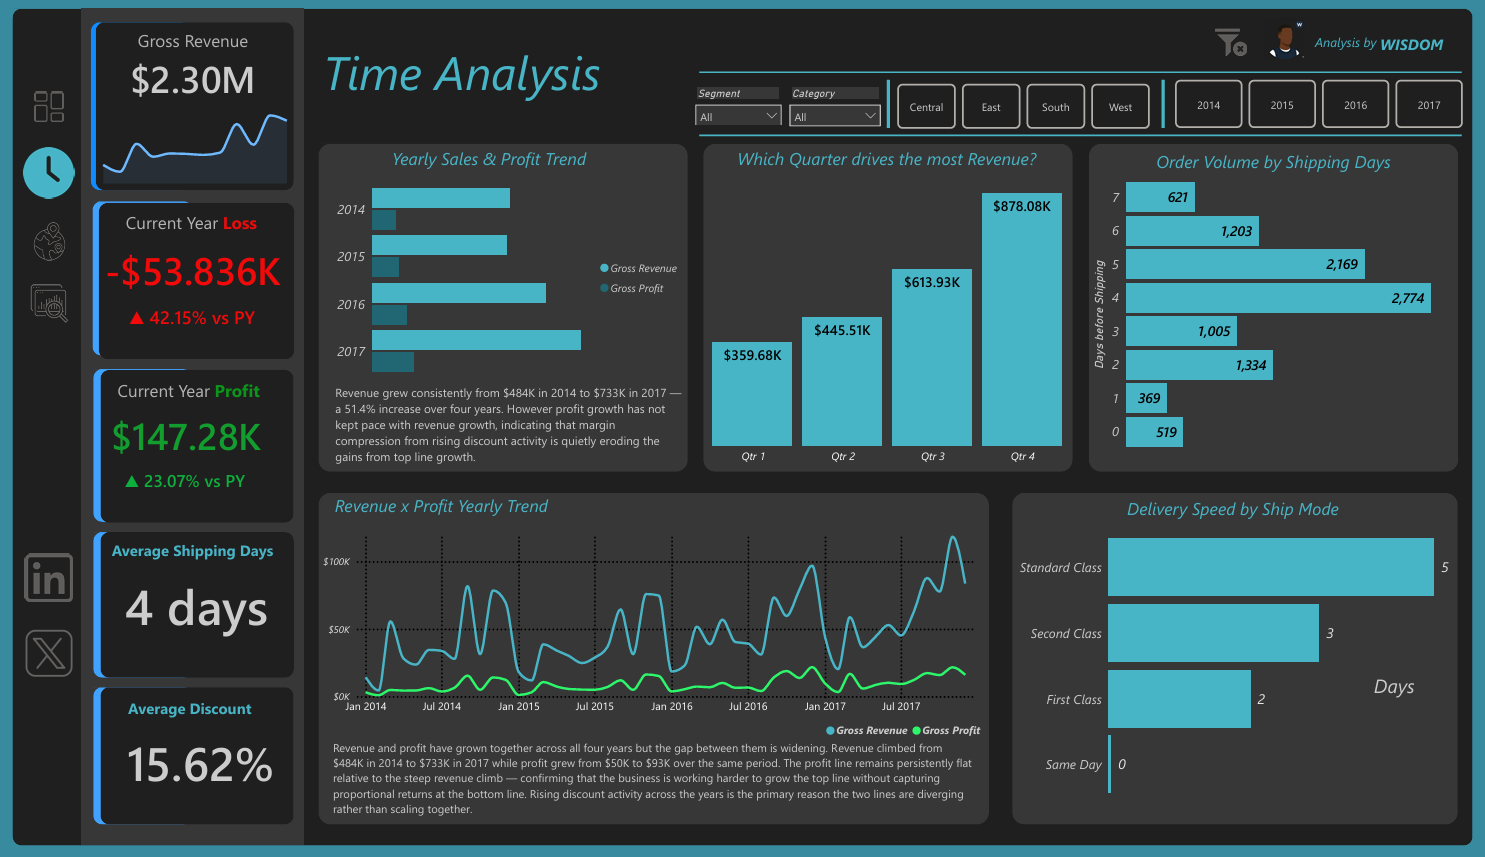

This screenshot's page, from the dashboard's own definition file:
{"tool":"powerbi","page":{"name":"Time Analysis","canvas":[1900,1080],"ordinal":1},"visuals":[{"type":"shape","box":[35.8,16.4,1828.2,1046.8],"z":0},{"type":"group","id":"g1","title":"Group 1","box":[134.3,32.8,253.6,210.3],"z":0,"group":"g5"},{"type":"shape","box":[134.3,32.8,123.9,209.8],"z":0,"group":"g1"},{"type":"textbox","box":[1661.6,41.8,96.3,62.6],"z":0,"group":"g4"},{"type":"shape","box":[135.7,257.3,125.1,192.8],"z":0,"group":"g6"},{"type":"cardVisual","fields":{"Data":["Yoys.Current Year Total Loss"]},"box":[71.3,281.4,381.6,118.4],"z":0,"group":"g7"},{"type":"shape","box":[137.2,466.9,123.8,190.9],"z":0,"group":"g8"},{"type":"cardVisual","fields":{"Data":["Yoys.Current Year Profit"]},"box":[97.7,489.1,310.9,118.4],"z":0,"group":"g9"},{"type":"shape","box":[137.2,671.2,124,181.9],"z":0,"group":"g2"},{"type":"shape","box":[137.2,865.1,123.8,171.5],"z":0,"group":"g3"},{"type":"shape","box":[140.3,32.8,247.8,209.8],"z":1000,"group":"g1"},{"type":"textbox","box":[1739.8,41.8,96.3,62.6],"z":1000,"group":"g4"},{"type":"cardVisual","fields":{"Data":["KPIs.Gross Revenue"]},"box":[126.8,43.2,270,117.8],"z":1000,"group":"g5"},{"type":"slicer","fields":{"Values":["Superstore Sales Data.Category"]},"box":[998.7,109.2,134.2,54.6],"z":1000},{"type":"shape","box":[143.2,259.4,244.5,195.4],"z":1000,"group":"g6"},{"type":"textbox","box":[168.6,262.5,183.5,53.7],"z":1000,"group":"g7"},{"type":"shape","box":[146.1,468.4,241.6,190.9],"z":1000,"group":"g8"},{"type":"textbox","box":[155.8,474.2,200.7,51],"z":1000,"group":"g9"},{"type":"shape","box":[145.8,671.3,242,181.9],"z":1000,"group":"g2"},{"type":"shape","box":[146.1,865.1,241.6,171.5],"z":1000,"group":"g3"},{"type":"shape","box":[122.3,16.4,278.9,1046.8],"z":2000},{"type":"textbox","box":[170.1,35.8,183.5,53.7],"z":2000,"group":"g5"},{"type":"slicer","fields":{"Values":["Superstore Sales Data.Segment"]},"box":[880.7,109.2,128.3,51.6],"z":3000},{"type":"lineChart","fields":{"Y":["Dax.Gross Revenue"],"Category":["Superstore Sales Data.Order Date.Variation.Date Hierarchy.Month"]},"box":[135.7,123.8,256.5,116.3],"z":3000,"group":"g5"},{"type":"cardVisual","fields":{"Data":["Kpi Labels.Profit Display"]},"box":[143.8,569.7,215.5,69.1],"z":3000,"group":"g9"},{"type":"cardVisual","fields":{"Data":["Kpi Labels.Loss Display"]},"box":[135,366.9,251.7,67.4],"z":4000,"group":"g7"},{"type":"shape","box":[419,621.8,839.6,414.6],"z":4000},{"type":"shape","box":[1288.4,621.8,557.7,414.6],"z":5000},{"type":"shape","box":[419.1,185,462.4,410.2],"z":6000},{"type":"shape","box":[900.9,185,462.4,410.2],"z":7000},{"type":"shape","box":[1384.2,185,462.4,410.2],"z":8000},{"type":"clusteredColumnChart","fields":{"Y":["Dax.Gross Revenue"],"Category":["Superstore Sales Data.Order Date.Variation.Date Hierarchy.Quarter"]},"box":[863,203.6,538.5,390.9],"z":9000},{"type":"advancedSlicerVisual","fields":{"Values":["Superstore Sales Data.Ship Date.Variation.Date Hierarchy.Year"]},"box":[1487.1,100.3,371.8,70.8],"z":10000},{"type":"group","id":"g2","title":"Group 2","box":[137.2,671.2,250.6,182],"z":11000},{"type":"group","id":"g3","title":"Group 3","box":[137.2,865.1,250.6,171.5],"z":12000},{"type":"cardVisual","fields":{"Data":["Dax.Average Discount"]},"box":[134.2,885.2,274.4,144.6],"z":13000},{"type":"textbox","box":[146.4,676,230.3,54.3],"z":14000},{"type":"cardVisual","fields":{"Data":["KPIs.Average Shipping Days"]},"box":[123.4,690.8,287.8,139.8],"z":15000},{"type":"textbox","box":[165.6,872.6,183.5,53.7],"z":16000},{"type":"textbox","box":[419,50.2,463.2,91.5],"z":17000},{"type":"image","box":[43.3,698,77.6,61.2],"z":18000},{"type":"image","box":[46.2,790.5,71.6,62.6],"z":19000},{"type":"group","id":"g4","title":"Group 1","box":[1661.6,41.8,174.5,62.6],"z":20000},{"type":"image","box":[1585.5,28.3,86.5,50.7],"z":21000},{"type":"group","id":"g5","title":"Group 4","box":[126.8,32.8,270,210.3],"z":22000},{"type":"group","id":"g6","title":"Group 6","box":[135.7,257.3,252.1,196.9],"z":23000},{"type":"group","id":"g7","title":"Group 5","box":[71.3,262.5,381.6,171.9],"z":24000},{"type":"group","id":"g8","title":"Group 8","box":[137.2,466.9,250.6,192.4],"z":25000},{"type":"group","id":"g9","title":"Group 7","box":[97.7,474.2,310.9,164.6],"z":26000},{"type":"advancedSlicerVisual","fields":{"Values":["Superstore Sales Data.Region"]},"box":[1138.9,104.7,327.5,66.4],"z":27000},{"type":"image","box":[1540.2,38.4,45.7,39.8],"z":28000},{"type":"shape","box":[896.4,82,954.6,26.8],"z":29000},{"type":"group","id":"g10","title":"Group 9","box":[1096.3,32.8,277.4,53.7],"z":30000},{"type":"shape","box":[1462,104.7,29.5,60.5],"z":31000},{"type":"shape","box":[896.4,161.1,954.6,26.8],"z":32000},{"type":"textbox","box":[435.2,480.9,445.5,113.6],"z":33000},{"type":"textbox","box":[432.2,926.5,811.4,110.6],"z":34000},{"type":"textbox","box":[1457.5,187.4,314.2,48.7],"z":35000},{"type":"textbox","box":[930.9,184.4,399.8,48.7],"z":36000},{"type":"image","box":[62.6,116.3,37.3,46.2],"z":37000},{"type":"image","box":[49.2,179,64.1,83.5],"z":38000},{"type":"image","box":[58.2,275.9,47.7,62.6],"z":39000},{"type":"image","box":[58.2,353.5,47.7,64.1],"z":40000},{"type":"textbox","box":[1384.1,621.7,360.7,49],"z":41000},{"type":"lineChart","fields":{"Y":["KPIs.Gross Revenue","KPIs.Gross Profit"],"Category":["Superstore Sales Data.Order Date.Variation.Date Hierarchy.Year","Superstore Sales Data.Order Date.Variation.Date Hierarchy.Month"]},"box":[419.4,659.6,838.9,278],"z":42000},{"type":"textbox","box":[432.2,618.1,281.8,48.7],"z":43000},{"type":"clusteredBarChart","fields":{"Category":["Superstore Sales Data.Order Date.Variation.Date Hierarchy.Year"],"Y":["KPIs.Gross Revenue","KPIs.Gross Profit"]},"box":[433.7,203.6,448.5,296.5],"z":44000},{"type":"textbox","box":[463.2,184.4,339.3,48.7],"z":45000},{"type":"clusteredBarChart","fields":{"Category":["Superstore Sales Data.Ship Mode"],"Y":["KPIs.Average Shipping Days Value"]},"box":[1283.5,632.9,559.1,404.2],"z":47000},{"type":"clusteredBarChart","fields":{"Category":["Superstore Sales Data.Days before Shipping"],"Y":["KPIs.Total Orders"]},"box":[1383.8,203.6,479.5,382.1],"z":48000},{"type":"shape","box":[1125.6,104.7,13.3,60.5],"z":49000},{"type":"textbox","box":[1696.5,840.9,138.7,62],"z":50001}]}

Visuals, with their boxes in screenshot pixels (x1, y1, x2, y2), scaled from the page's 1900x1080 canvas onto the 1485x857 screenshot:
shape: [28,13,1457,844]
"Group 1" group: [105,26,303,193]
shape: [105,26,202,193]
textbox: [1299,33,1374,83]
shape: [106,204,204,357]
cardVisual - Yoys.Current Year Total Loss: [56,223,354,317]
shape: [107,370,204,522]
cardVisual - Yoys.Current Year Profit: [76,388,319,482]
shape: [107,533,204,677]
shape: [107,686,204,823]
shape: [110,26,303,193]
textbox: [1360,33,1435,83]
cardVisual - KPIs.Gross Revenue: [99,34,310,128]
slicer - Superstore Sales Data.Category: [781,87,885,130]
shape: [112,206,303,361]
textbox: [132,208,275,251]
shape: [114,372,303,523]
textbox: [122,376,279,417]
shape: [114,533,303,677]
shape: [114,686,303,823]
shape: [96,13,314,844]
textbox: [133,28,276,71]
slicer - Superstore Sales Data.Segment: [688,87,789,128]
lineChart - Dax.Gross Revenue x Superstore Sales Data.Order Date.Variation.Date Hierarchy.Month: [106,98,307,191]
cardVisual - Kpi Labels.Profit Display: [112,452,281,507]
cardVisual - Kpi Labels.Loss Display: [106,291,302,345]
shape: [327,493,984,822]
shape: [1007,493,1443,822]
shape: [328,147,689,472]
shape: [704,147,1066,472]
shape: [1082,147,1443,472]
clusteredColumnChart - Dax.Gross Revenue x Superstore Sales Data.Order Date.Variation.Date Hierarchy.Quarter: [675,162,1095,472]
advancedSlicerVisual - Superstore Sales Data.Ship Date.Variation.Date Hierarchy.Year: [1162,80,1453,136]
"Group 2" group: [107,533,303,677]
"Group 3" group: [107,686,303,823]
cardVisual - Dax.Average Discount: [105,702,319,817]
textbox: [114,536,294,580]
cardVisual - KPIs.Average Shipping Days: [96,548,321,659]
textbox: [129,692,273,735]
textbox: [327,40,690,112]
image: [34,554,94,602]
image: [36,627,92,677]
"Group 1" group: [1299,33,1435,83]
image: [1239,22,1307,63]
"Group 4" group: [99,26,310,193]
"Group 6" group: [106,204,303,360]
"Group 5" group: [56,208,354,345]
"Group 8" group: [107,370,303,523]
"Group 7" group: [76,376,319,507]
advancedSlicerVisual - Superstore Sales Data.Region: [890,83,1146,136]
image: [1204,30,1240,62]
shape: [701,65,1447,86]
"Group 9" group: [857,26,1074,69]
shape: [1143,83,1166,131]
shape: [701,128,1447,149]
textbox: [340,382,688,472]
textbox: [338,735,972,823]
textbox: [1139,149,1385,187]
textbox: [728,146,1040,185]
image: [49,92,78,129]
image: [38,142,89,208]
image: [45,219,83,269]
image: [45,281,83,331]
textbox: [1082,493,1364,532]
lineChart - KPIs.Gross Revenue x KPIs.Gross Profit: [328,523,983,744]
textbox: [338,490,558,529]
clusteredBarChart - Superstore Sales Data.Order Date.Variation.Date Hierarchy.Year x KPIs.Gross Revenue: [339,162,690,397]
textbox: [362,146,627,185]
clusteredBarChart - Superstore Sales Data.Ship Mode x KPIs.Average Shipping Days Value: [1003,502,1440,823]
clusteredBarChart - Superstore Sales Data.Days before Shipping x KPIs.Total Orders: [1082,162,1456,465]
shape: [880,83,890,131]
textbox: [1326,667,1434,716]
